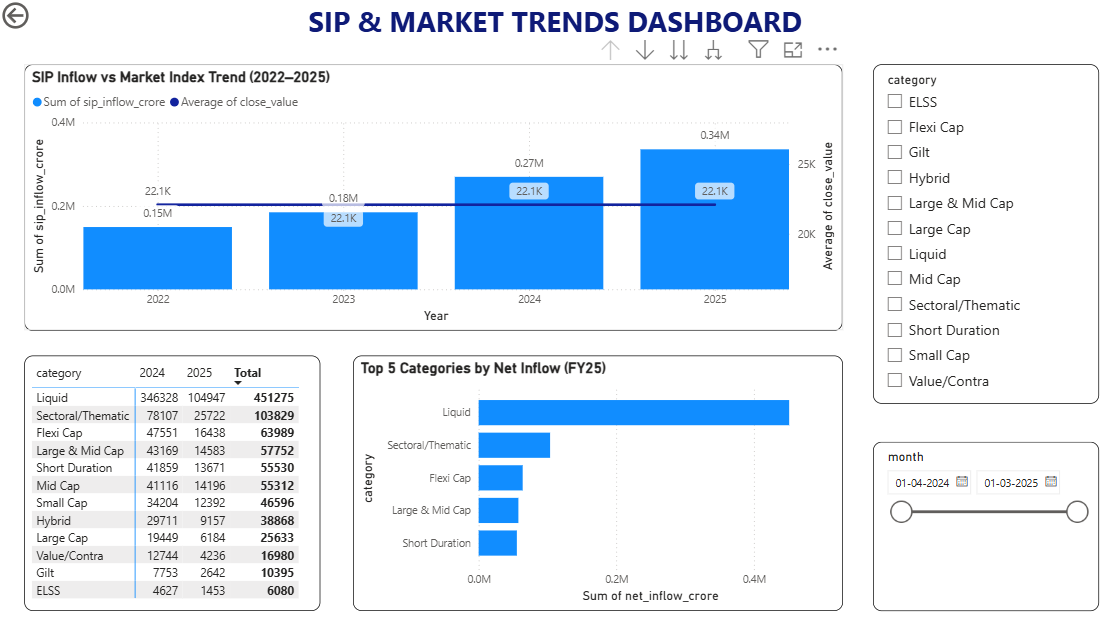

What the dashboard file says about the page in this screenshot:
{"tool":"powerbi","page":{"name":"SIP & Market Trends","canvas":[1280,720],"ordinal":3},"visuals":[{"type":"textbox","box":[220,0,833.3,58.3],"z":0},{"type":"lineClusteredColumnComboChart","title":"SIP Inflow vs Market Index Trend (2022–2025)","fields":{"Category":["04_monthly_sip_inflows.month.Variation.Date Hierarchy.Year","04_monthly_sip_inflows.month.Variation.Date Hierarchy.Month"],"Y":["Sum(04_monthly_sip_inflows.sip_inflow_crore)"],"Y2":["Avg(10_benchmark_indices.close_value)"]},"box":[30,75,935,305],"z":1000},{"type":"pivotTable","fields":{"Rows":["05_category_inflows.category"],"Columns":["05_category_inflows.month.Variation.Date Hierarchy.Year","05_category_inflows.month.Variation.Date Hierarchy.Quarter","05_category_inflows.month.Variation.Date Hierarchy.Month","05_category_inflows.month.Variation.Date Hierarchy.Day"],"Values":["Sum(05_category_inflows.net_inflow_crore)"]},"box":[30,408.3,338.3,291.7],"z":2000},{"type":"clusteredBarChart","title":"Top 5 Categories by Net Inflow (FY25)","fields":{"Category":["05_category_inflows.category"],"Y":["Sum(05_category_inflows.net_inflow_crore)"]},"box":[405,408.3,560,291.7],"z":3000},{"type":"slicer","fields":{"Values":["05_category_inflows.month"]},"box":[1000,506.7,258.3,193.3],"z":4000},{"type":"slicer","fields":{"Values":["05_category_inflows.category"]},"box":[1000,75,258.3,388.3],"z":5000},{"type":"actionButton","box":[0,0,100,40],"z":6000}]}

Visuals, with their boxes in screenshot pixels (x1, y1, x2, y2), scaled from the page's 1280x720 canvas onto the 1114x624 screenshot:
textbox: box=[191, 0, 917, 51]
"SIP Inflow vs Market Index Trend (2022–2025)" lineClusteredColumnComboChart: box=[26, 65, 840, 329]
pivotTable - 05_category_inflows.category x 05_category_inflows.month.Variation.Date Hierarchy.Year: box=[26, 354, 321, 607]
"Top 5 Categories by Net Inflow (FY25)" clusteredBarChart: box=[352, 354, 840, 607]
slicer - 05_category_inflows.month: box=[870, 439, 1095, 607]
slicer - 05_category_inflows.category: box=[870, 65, 1095, 402]
actionButton: box=[0, 0, 87, 35]
